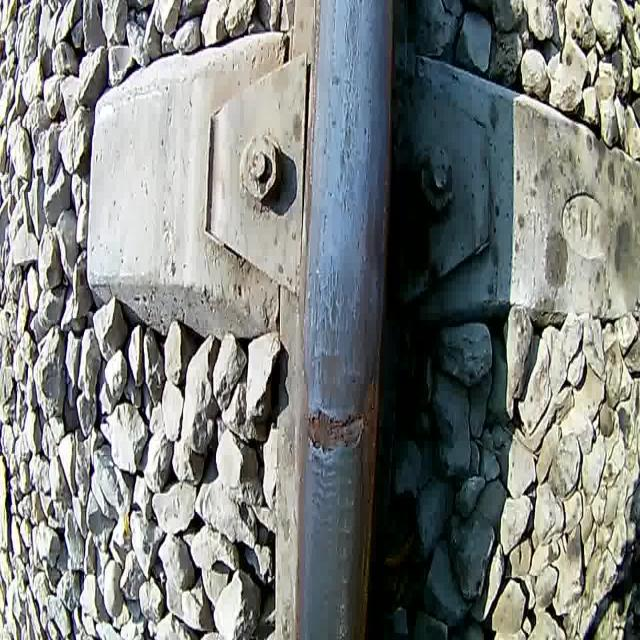Spallings: (304, 404, 370, 459)
Squats: (309, 249, 379, 424)
